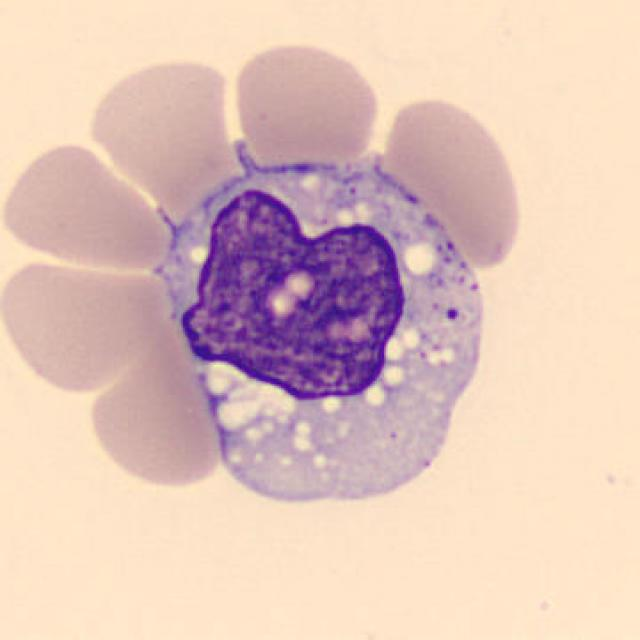Monocyte: (146, 137, 508, 524)
RBC: (377, 91, 528, 272), (0, 138, 176, 272), (84, 51, 240, 198), (0, 254, 155, 397), (82, 349, 229, 492), (228, 37, 384, 166)
